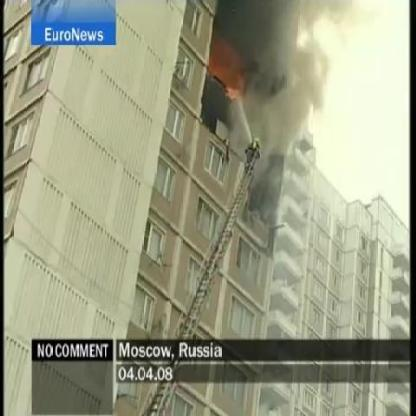fire: (221, 79, 246, 106)
